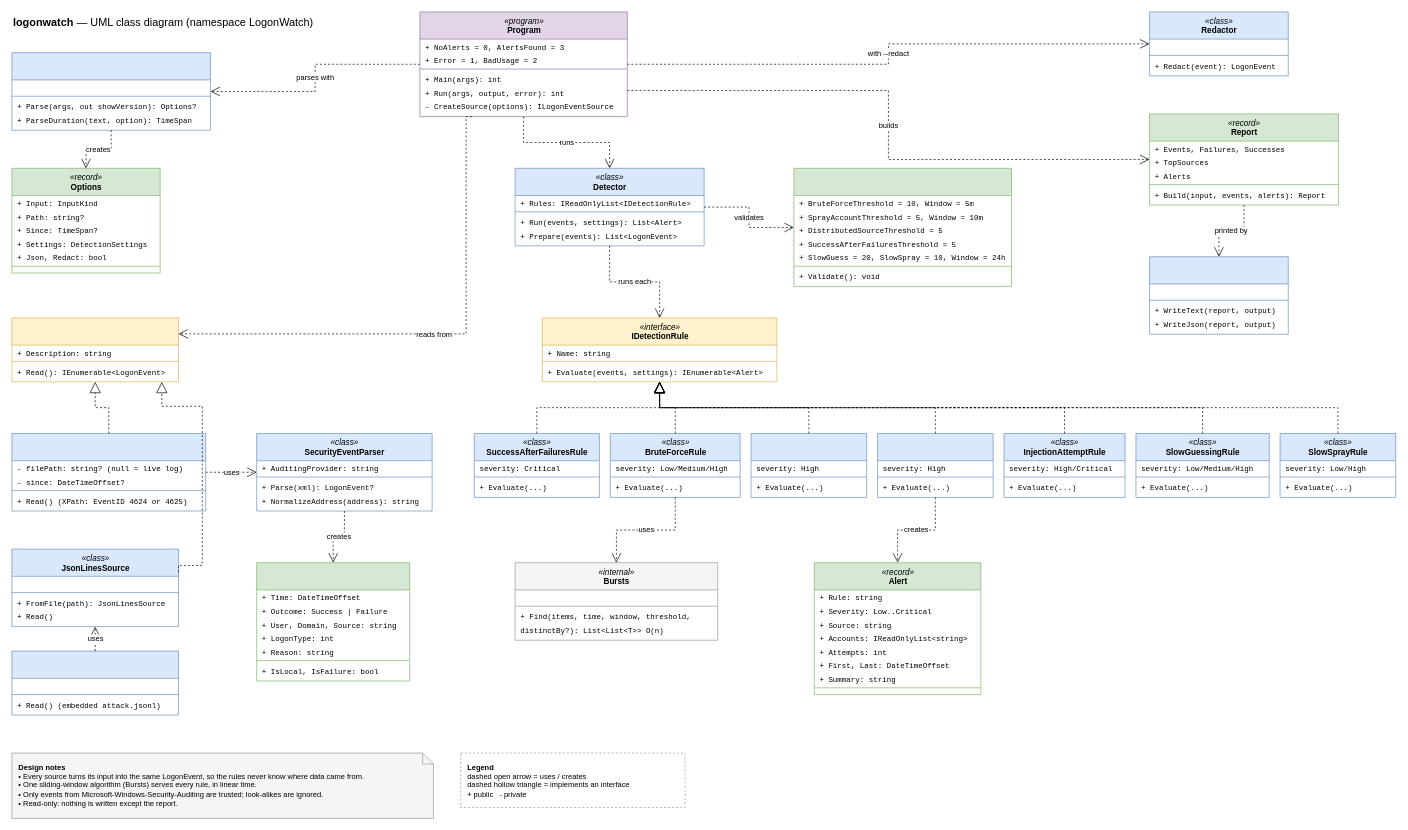
Image size: 1408x830. Some labels were removed from this diagram. The box of each missing label's shape, as (x1, y1, x2, y2) in pixels:
«class» DemoSource: (11, 650, 178, 715)
«class» DistributedAttackRule: (877, 433, 993, 497)
«class» OptionsParser: (11, 52, 210, 130)
«class» PasswordSprayRule: (750, 433, 867, 497)
«class» ReportWriter: (1149, 256, 1288, 334)
«class» WindowsEventLogSource: (11, 433, 206, 511)
«interface» ILogonEventSource: (11, 317, 178, 382)
«record» DetectionSettings: (793, 168, 1012, 287)
«record» LogonEvent: (256, 562, 410, 681)
